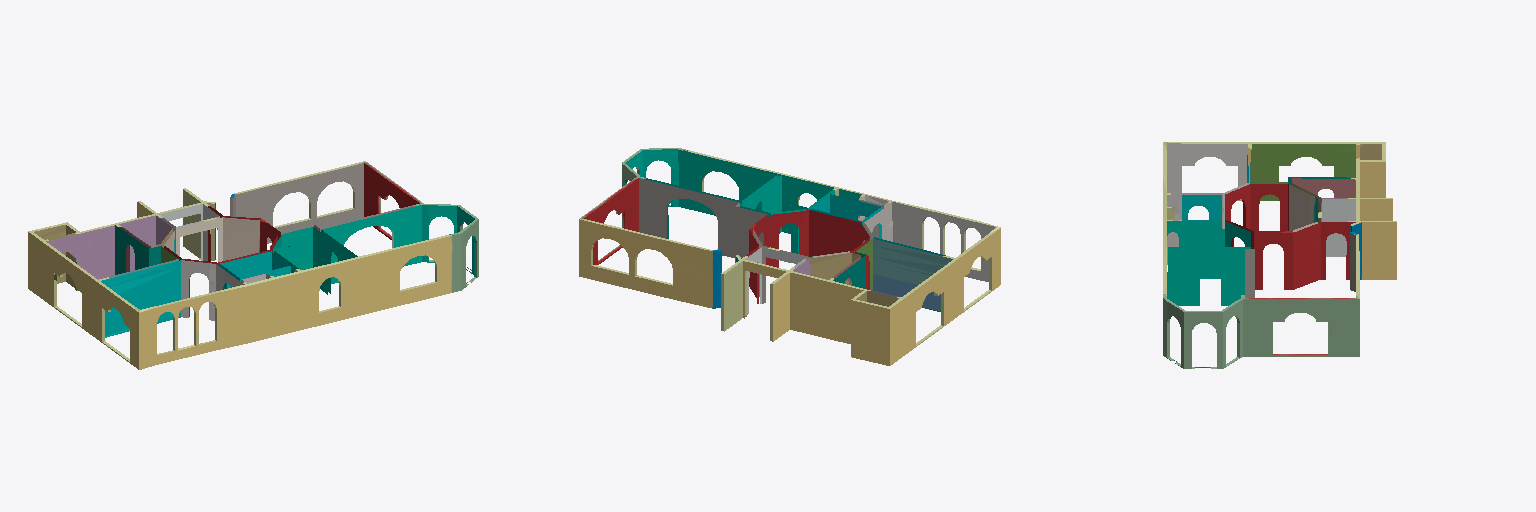
3 views of the same model, side by side, from view 1: azimuth 30°, elevation 25°; view 2: azimuth 150°, elevation 25°; view 3: azimuth 270°, elevation 25° (orthographic).
Parts seen in each view (by area): view 1: pCube182; view 2: pCube182; view 3: pCube182.
Boxes of the visible parts, box(x1,y1,x2,y2) form: pCube182: box(28, 161, 478, 369); pCube182: box(579, 148, 1000, 365); pCube182: box(1163, 142, 1396, 368).
Bounding box in the file's own units: 1595 × 257 × 921.
Materials: 1 (1 with a texture image).